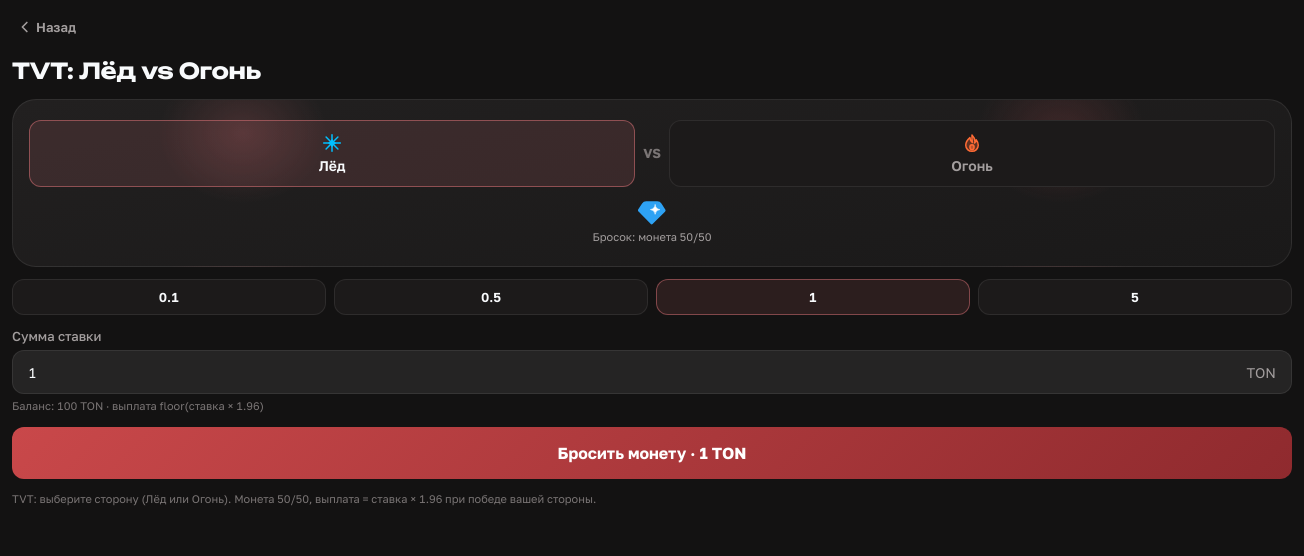
TvtScreen (5.3: стороны, монета 50/50 ×1.96) › бросок — выигрыш Лёд: монета, результат, баланс, история матча
This screenshot has width=1304, height=556.
Click the button "Бросить монету · 1 TON": (652, 452) [12,426,1292,478]
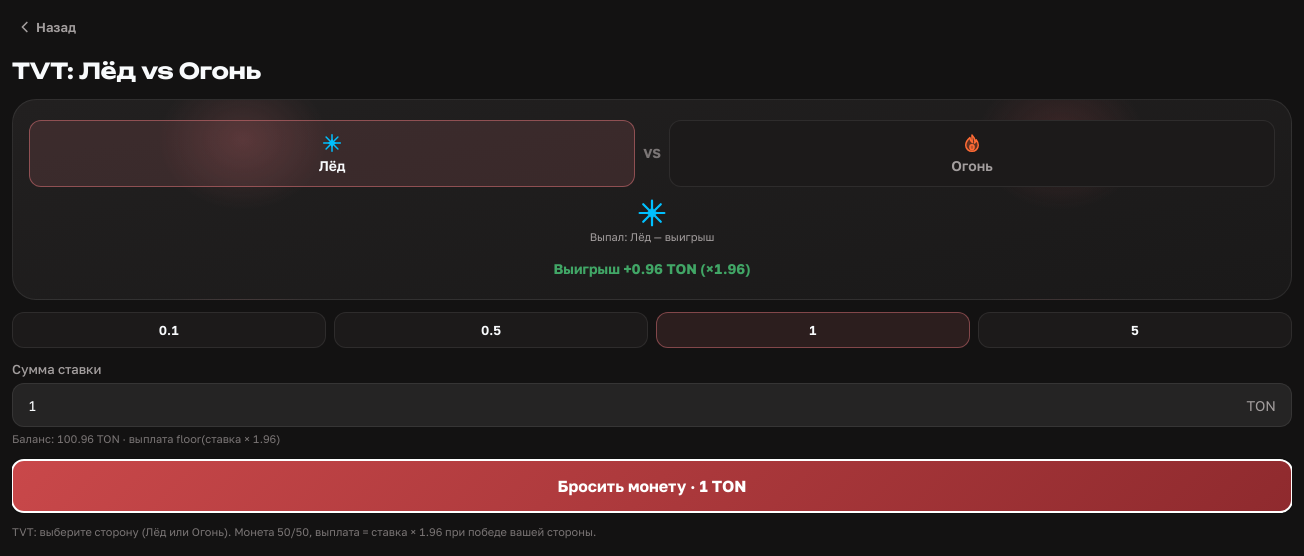
Expected: the text with test id "tvt-result" reads "Выигрыш +0.96 TON (×1.96)", [554,260,750,276]
Expected: the text "Выпал: Лёд — выигрыш" is shown, [590,229,714,246]
